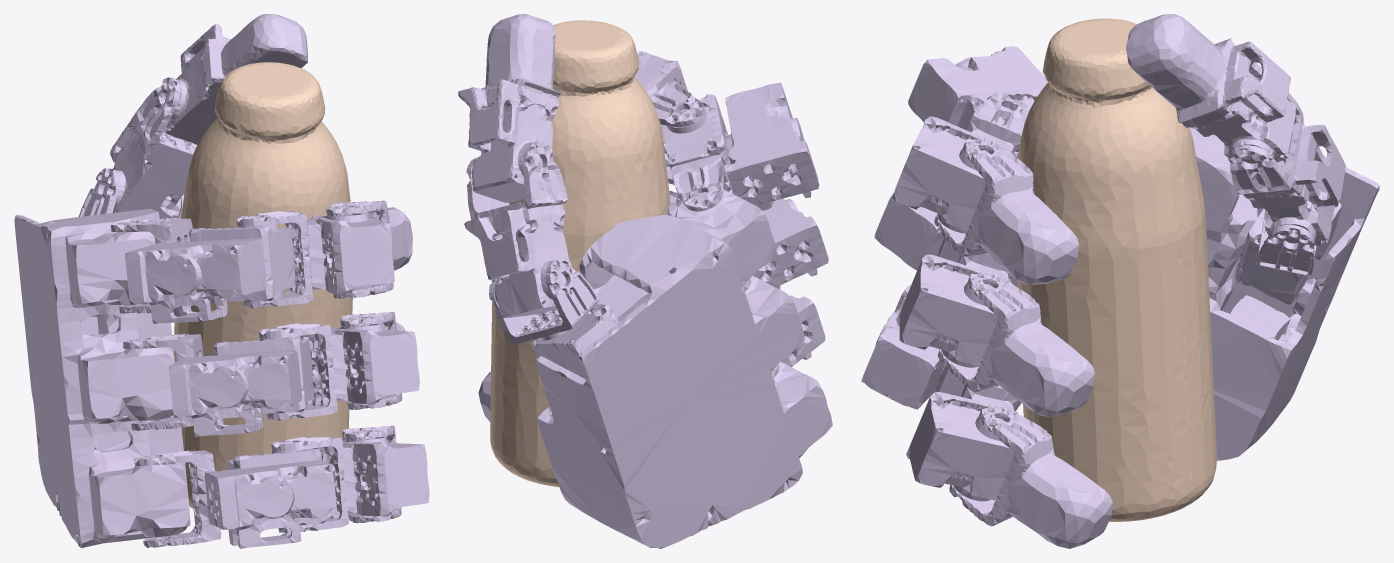
File: 4a7d97add1a2fc-closed.glb
3 renders of one model, left to right at view 1: azimuth 30°, elevation 25°; view 2: azimuth 150°, elevation 25°; view 3: azimuth 270°, elevation 25°, orthographic. The views are drawn at different scales.
Parts seen in each view (by area): view 1: LEAP_hand, world; view 2: LEAP_hand, world; view 3: LEAP_hand, world.
Part boxes in pixels (left/top/right/bottom): LEAP_hand: left=14, top=14, right=429, bottom=548; world: left=173, top=62, right=352, bottom=509; LEAP_hand: left=458, top=14, right=832, bottom=548; world: left=490, top=20, right=669, bottom=487; LEAP_hand: left=861, top=14, right=1379, bottom=548; world: left=1017, top=18, right=1216, bottom=521.
Bounding box in the file's own units: 0.144 × 0.2016 × 0.1849.
